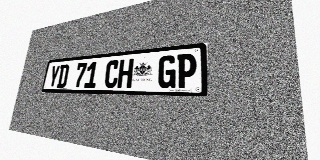1: (84, 61, 99, 88)
7: (73, 62, 87, 88)
C: (104, 60, 120, 88)
D: (56, 64, 70, 88)
G: (157, 55, 177, 88)
H: (117, 58, 134, 88)
P: (176, 53, 197, 88)
Y: (48, 65, 60, 88)
